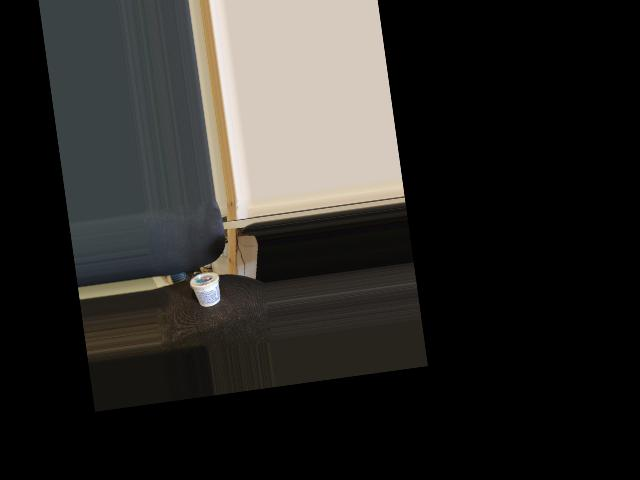cotage: (189, 269, 219, 309)
